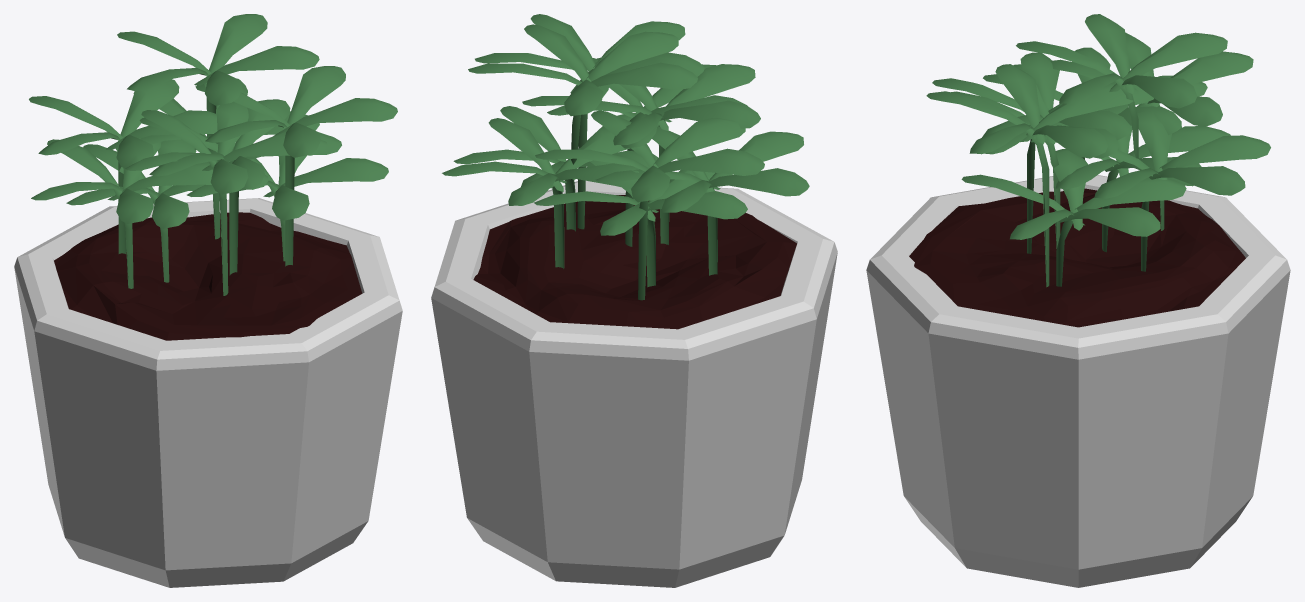
Rendered from fenugreek.glb.
3 renders of one model, left to right at view 1: azimuth 30°, elevation 25°; view 2: azimuth 150°, elevation 25°; view 3: azimuth 270°, elevation 25°, orthographic. The views are drawn at different scales.
Visible parts, largest first — view 1: fenugreek; view 2: fenugreek; view 3: fenugreek.
Part boxes in pixels (x1,y1,x2,y2): fenugreek: (14, 14, 402, 587); fenugreek: (431, 14, 837, 587); fenugreek: (866, 14, 1290, 587).
Size of the model in its own units: 1.39 by 1.77 by 1.39.
